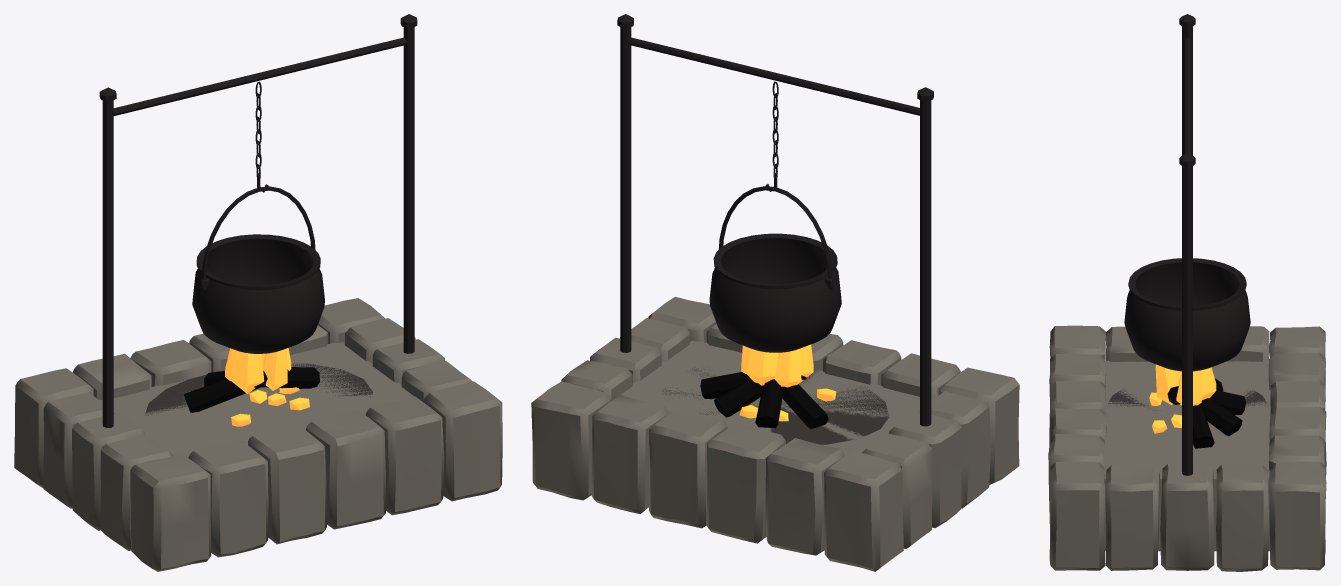
Rendered from feuerstelle.glb.
3 renders of one model, left to right at view 1: azimuth 30°, elevation 25°; view 2: azimuth 150°, elevation 25°; view 3: azimuth 270°, elevation 25°, orthographic. The views are drawn at different scales.
Visible parts, largest first — view 1: feuerstelle; view 2: feuerstelle; view 3: feuerstelle.
Part boxes in pixels (bbox=[...]): feuerstelle: bbox=[14, 14, 502, 571]; feuerstelle: bbox=[531, 14, 1019, 571]; feuerstelle: bbox=[1048, 14, 1326, 571].
Size of the model in its own units: 1.41 by 1.65 by 1.01.
